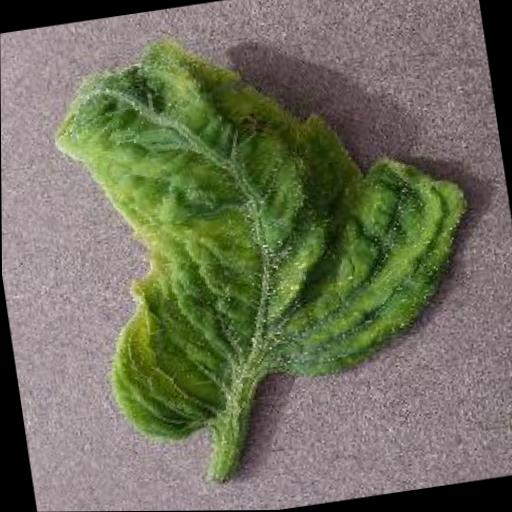Yellow Leaf Curl Virus: (38, 0, 500, 451)
